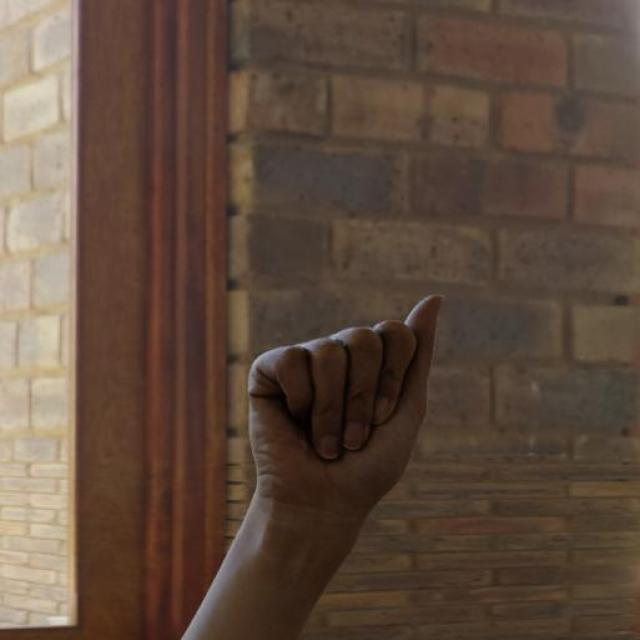A: (248, 293, 448, 511)
